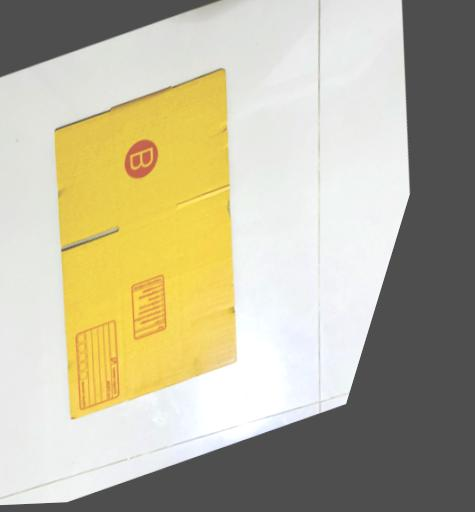box: (0, 62, 330, 431)
class0: (45, 316, 145, 415), (110, 271, 185, 343), (110, 135, 167, 184)
